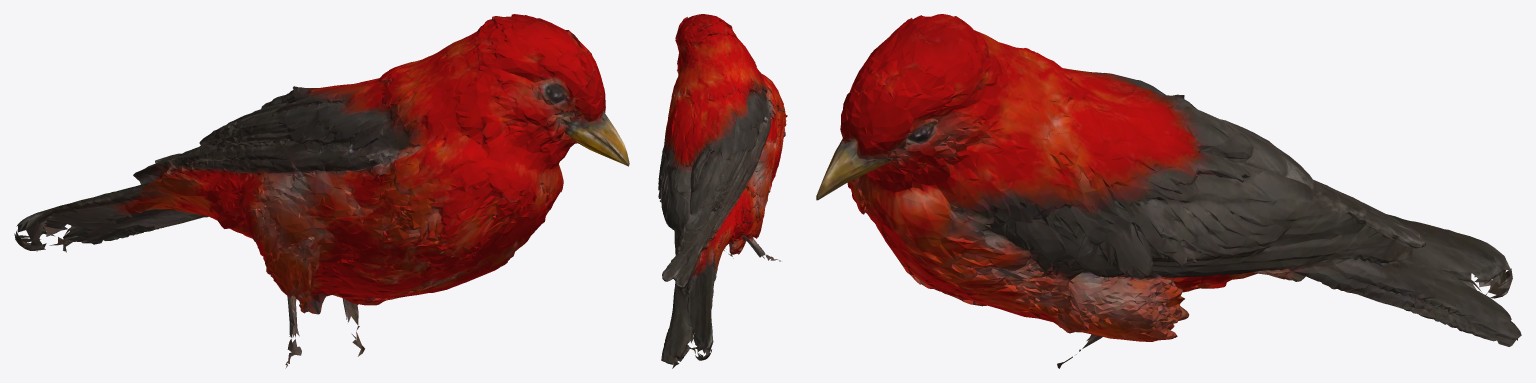
The model's file is scarlet-tanager.glb.
The picture shows the model from 3 angles, left to right: view 1: azimuth 30°, elevation 25°; view 2: azimuth 150°, elevation 25°; view 3: azimuth 270°, elevation 25°; orthographic projection. The views are drawn at different scales.
Parts seen in each view (by area): view 1: animal; view 2: animal; view 3: animal.
Boxes of the visible parts, x1=… form: animal: x1=14, y1=14, x2=629, y2=368; animal: x1=658, y1=14, x2=787, y2=368; animal: x1=816, y1=14, x2=1521, y2=368.
Bounding box in the file's own units: 0.1016 × 0.114 × 0.1702.
Materials: 1 (1 with a texture image).
